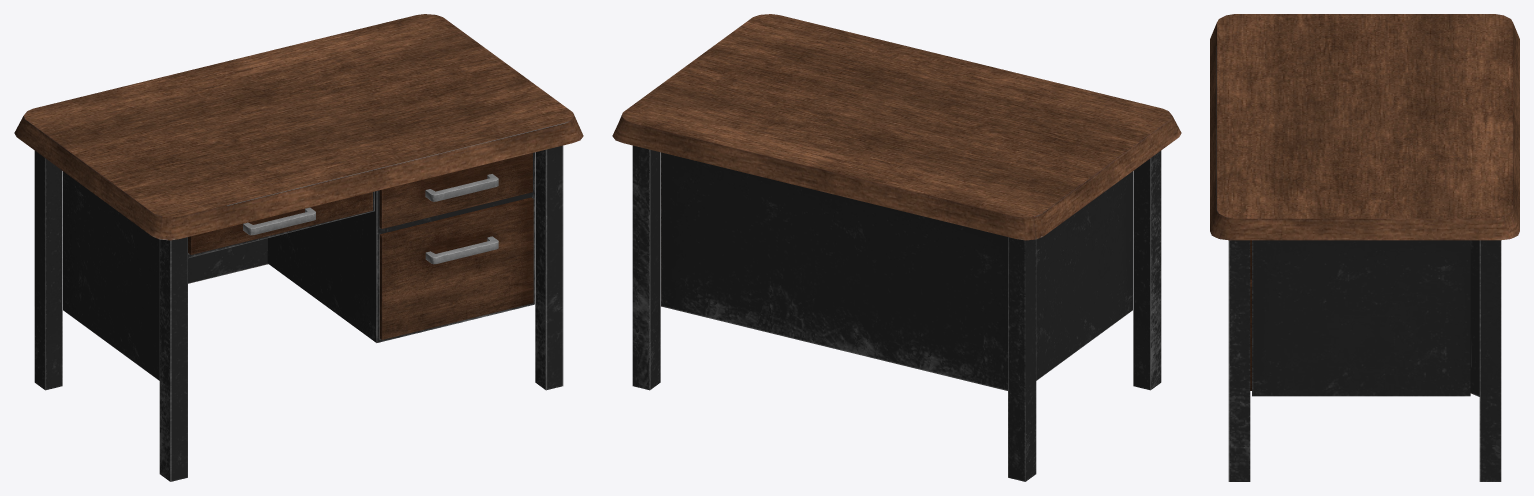
3 renders of one model, left to right at view 1: azimuth 30°, elevation 25°; view 2: azimuth 150°, elevation 25°; view 3: azimuth 270°, elevation 25°, orthographic.
Visible parts, largest first — view 1: Desk, BottomDrawer, TopDrawer, SideTopDrawer; view 2: Desk; view 3: Desk.
Boxes of the visible parts, <box> form: Desk: <box>14,14,583,481</box>; BottomDrawer: <box>379,197,533,339</box>; TopDrawer: <box>379,153,532,228</box>; SideTopDrawer: <box>188,192,372,254</box>; Desk: <box>612,14,1181,481</box>; Desk: <box>1210,14,1519,481</box>.
Size of the model in its own units: 1.74 by 1.04 by 1.09.
Materials: 4 (4 with a texture image).
